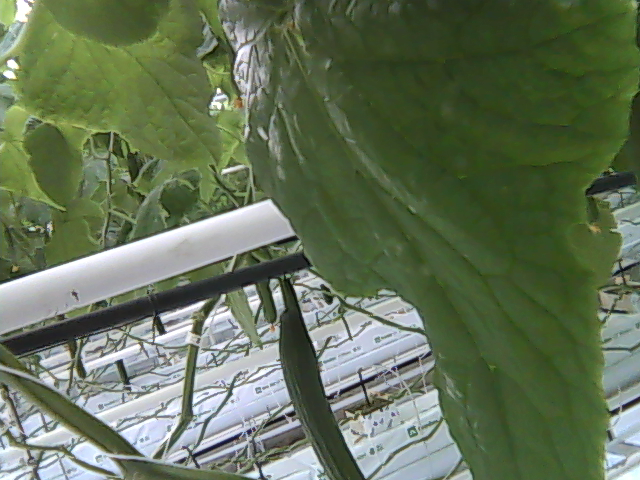concombre: (277, 309, 366, 480)
